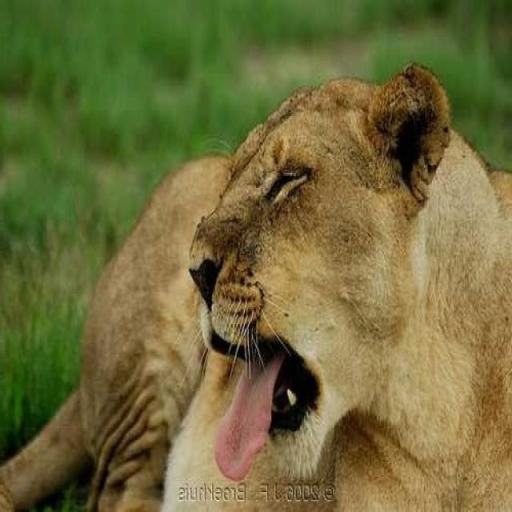Lion: (1, 60, 510, 511)
